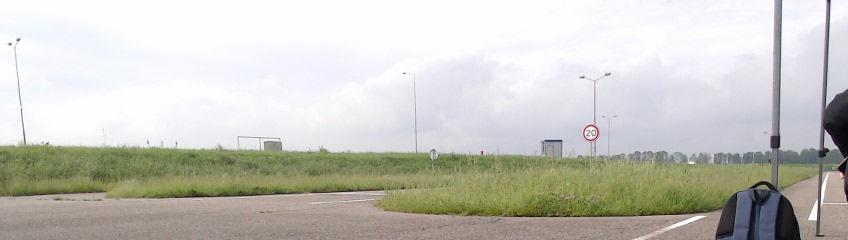Speed-limit-20km-h-: (583, 125, 599, 141)
